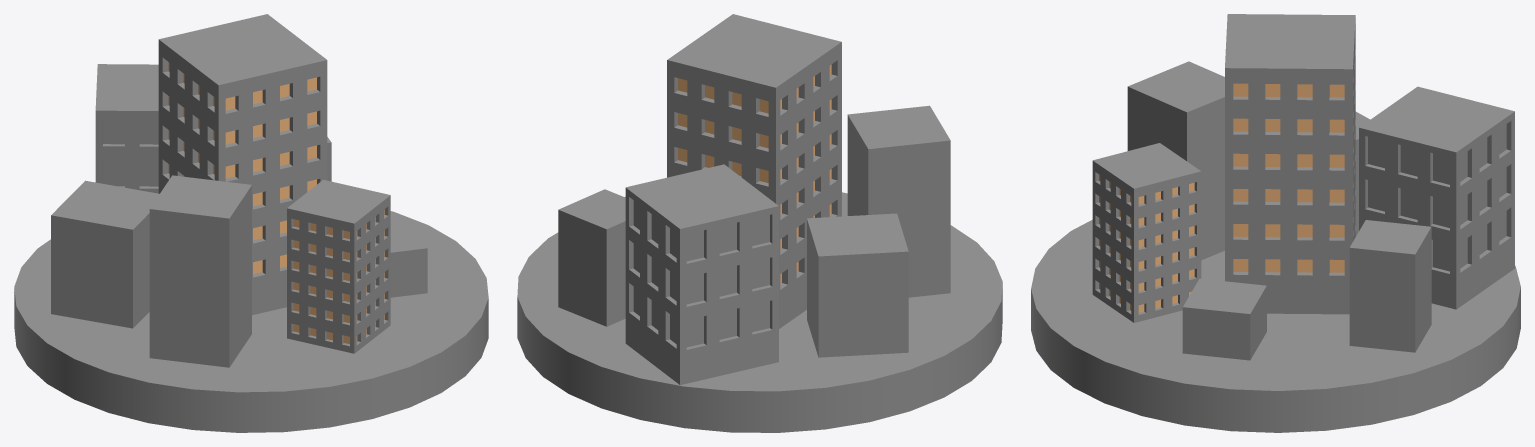
Rendered from City.fbx.
3 views of the same model, side by side, from view 1: azimuth 30°, elevation 25°; view 2: azimuth 150°, elevation 25°; view 3: azimuth 270°, elevation 25° (orthographic). The views are drawn at different scales.
Visible parts, largest first — view 1: City; view 2: City; view 3: City.
Boxes of the visible parts, x1,y1,x2,y2 form: City: (14, 14, 488, 432); City: (517, 14, 1002, 432); City: (1031, 14, 1520, 432).
Bounding box in the file's own units: 16.04 × 10.37 × 16.04.
